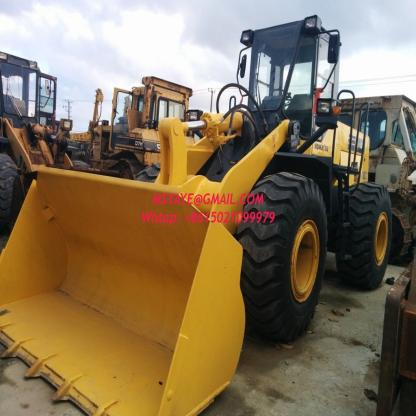bull_dozer/loader/grader: (6, 10, 404, 416)
